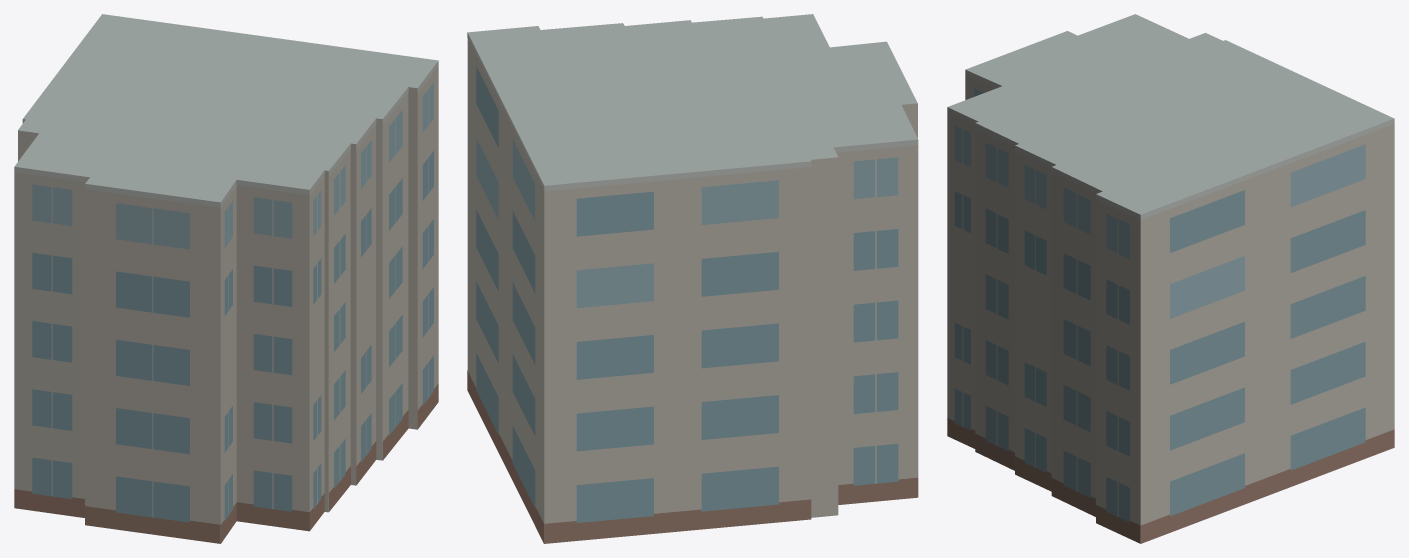
Rendered from survey-upis-32587800.glb.
The picture shows the model from 3 angles, left to right: view 1: azimuth 30°, elevation 25°; view 2: azimuth 150°, elevation 25°; view 3: azimuth 270°, elevation 25°; orthographic projection. The views are drawn at different scales.
Parts seen in each view (by area): view 1: survey-upis-32587800.tmp; view 2: survey-upis-32587800.tmp; view 3: survey-upis-32587800.tmp.
Boxes of the visible parts, x1,y1,x2,y2 form: survey-upis-32587800.tmp: (14, 14, 438, 543); survey-upis-32587800.tmp: (467, 14, 918, 543); survey-upis-32587800.tmp: (947, 14, 1394, 543).
Size of the model in its own units: 20.3 by 15.5 by 19.1.
